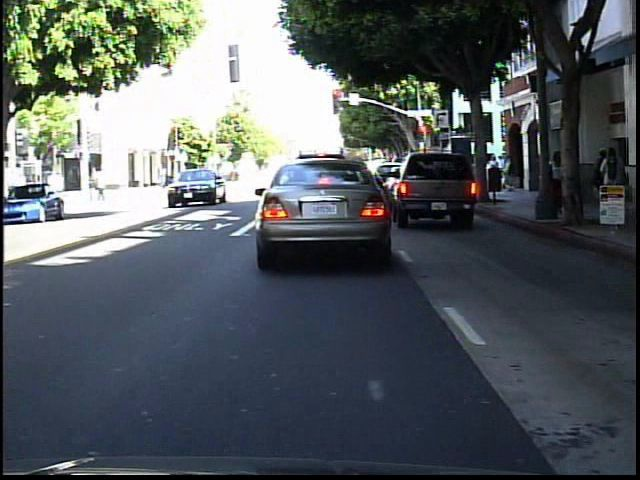person: (600, 143, 628, 218), (546, 146, 569, 217), (591, 147, 607, 208), (88, 162, 109, 205)
